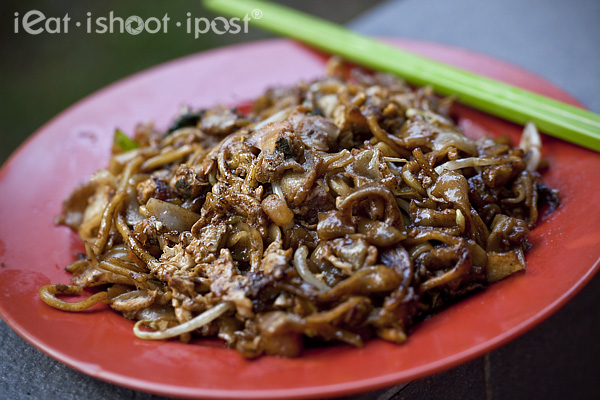Char Kway Teow: (68, 47, 550, 343)
